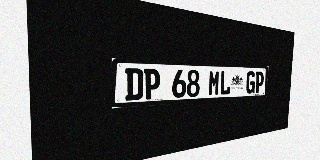6: (172, 69, 187, 98)
8: (186, 70, 200, 97)
D: (125, 68, 143, 101)
G: (246, 71, 256, 94)
L: (219, 70, 231, 95)
M: (208, 70, 220, 96)
P: (143, 68, 160, 100), (255, 71, 264, 93)
